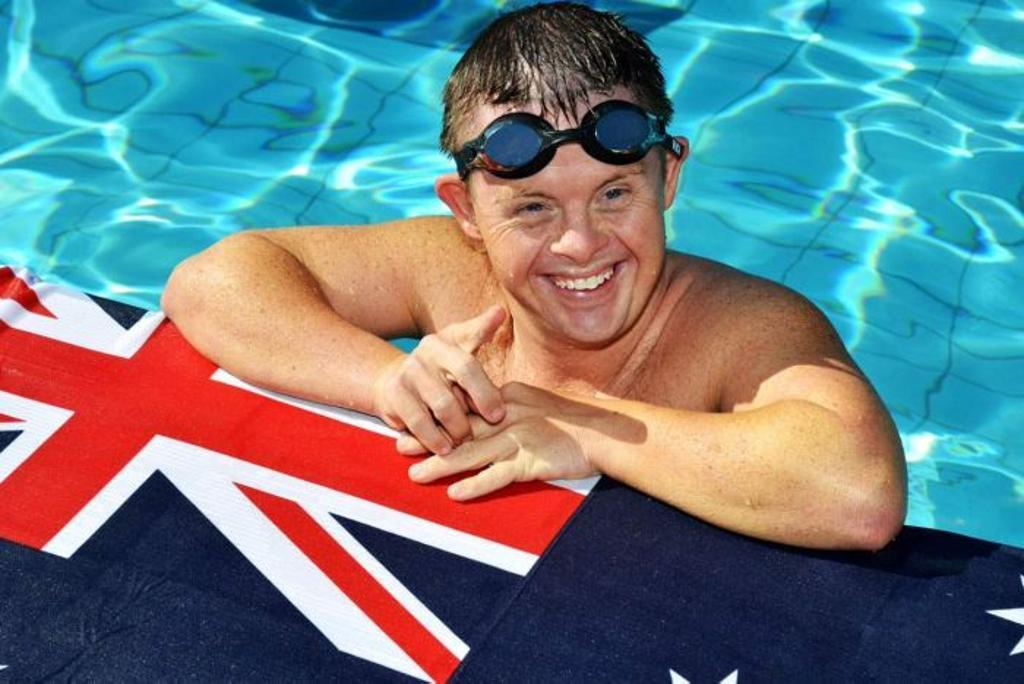face: (474, 106, 660, 342)
